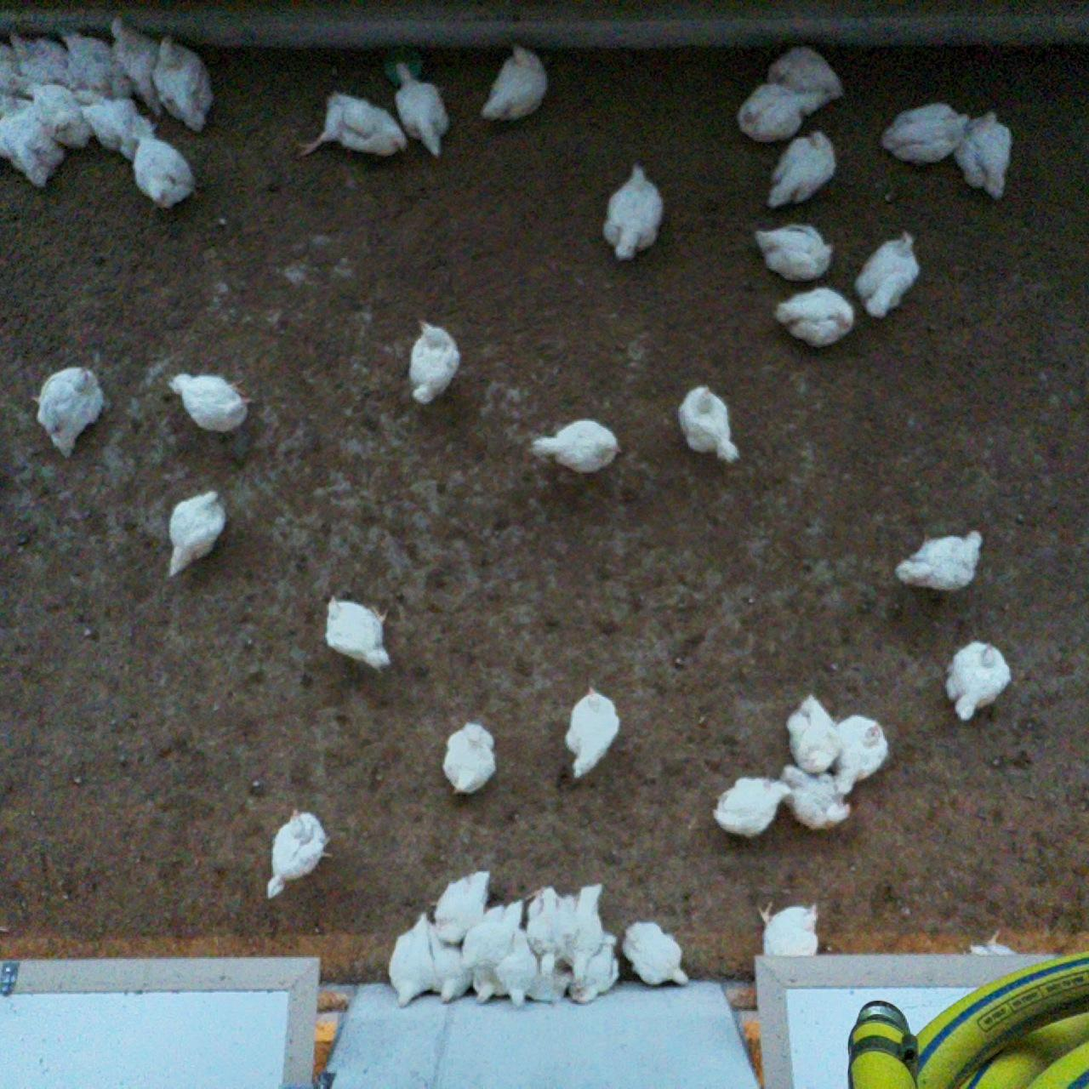chicken: (294, 86, 413, 174), (27, 358, 110, 464), (599, 158, 671, 267), (872, 94, 970, 172), (147, 31, 219, 137), (261, 804, 338, 901), (524, 411, 627, 483), (937, 633, 1015, 725), (851, 227, 924, 324), (475, 37, 554, 126), (319, 588, 398, 676), (893, 524, 988, 597), (128, 128, 205, 218), (163, 367, 260, 437), (764, 124, 841, 211), (391, 57, 453, 163), (954, 107, 1021, 205), (166, 486, 231, 583), (560, 683, 624, 781), (385, 909, 445, 1012), (675, 382, 745, 470), (750, 219, 839, 288), (107, 11, 164, 117), (706, 771, 792, 841), (772, 284, 857, 354), (777, 759, 855, 835), (423, 866, 498, 945), (401, 315, 464, 409), (729, 77, 819, 142), (0, 107, 69, 191), (764, 40, 849, 107), (781, 686, 843, 777), (26, 76, 94, 158), (566, 880, 619, 985), (458, 896, 527, 973), (438, 719, 500, 803), (618, 917, 690, 989), (525, 884, 573, 980), (832, 711, 892, 784), (563, 934, 622, 1007), (754, 894, 822, 957), (77, 93, 150, 151), (6, 26, 72, 86), (495, 924, 540, 1009), (61, 27, 115, 93), (433, 942, 475, 1006), (526, 946, 573, 1002), (0, 40, 27, 106), (471, 962, 507, 1007)
